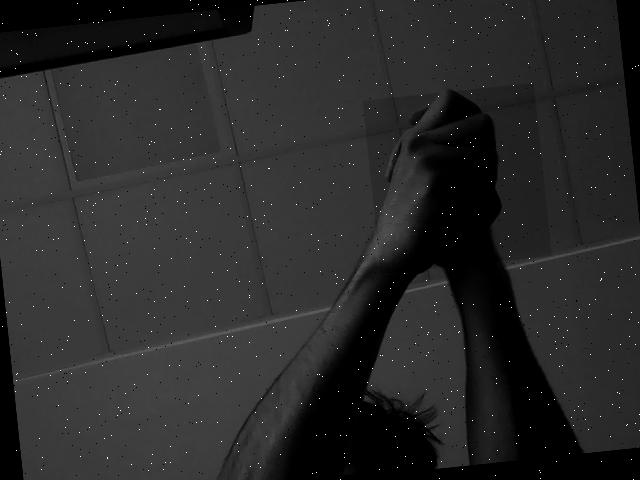friend: (363, 83, 552, 274)
